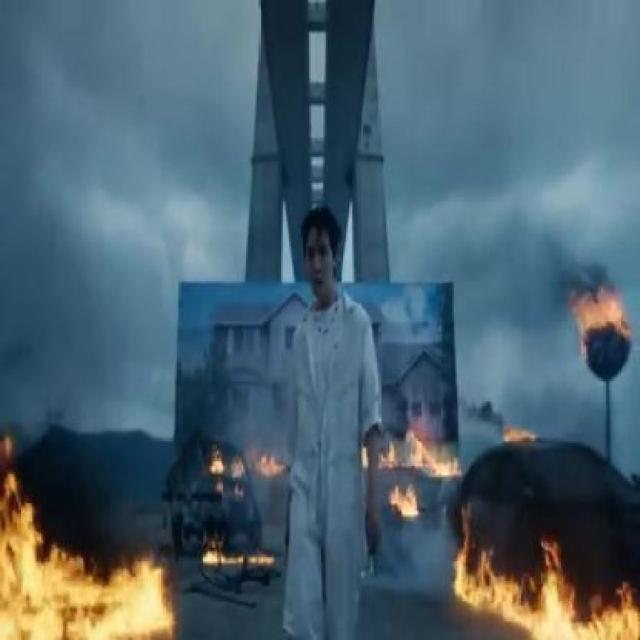fire: (458, 514, 640, 640), (1, 540, 180, 637), (564, 288, 634, 342), (398, 421, 454, 477), (246, 442, 288, 484), (386, 482, 422, 518)
smoke: (436, 216, 622, 304), (24, 386, 120, 531), (374, 494, 456, 591), (522, 384, 628, 448), (226, 378, 286, 490), (454, 370, 506, 444)
